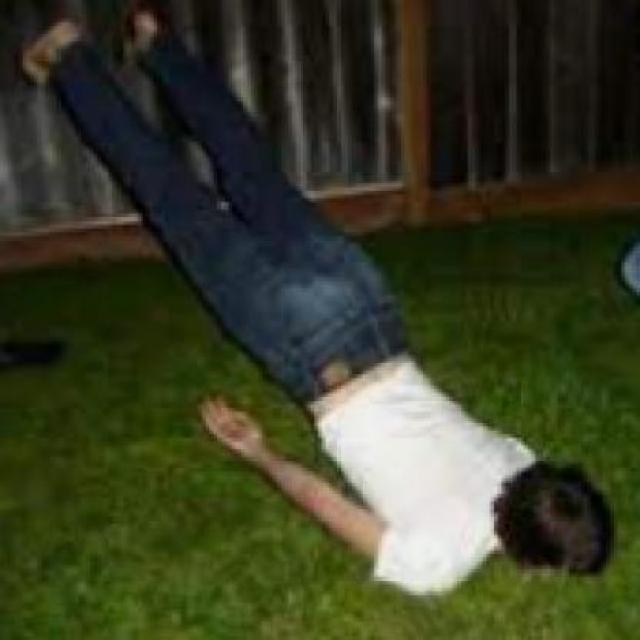fall: (18, 10, 612, 612)
